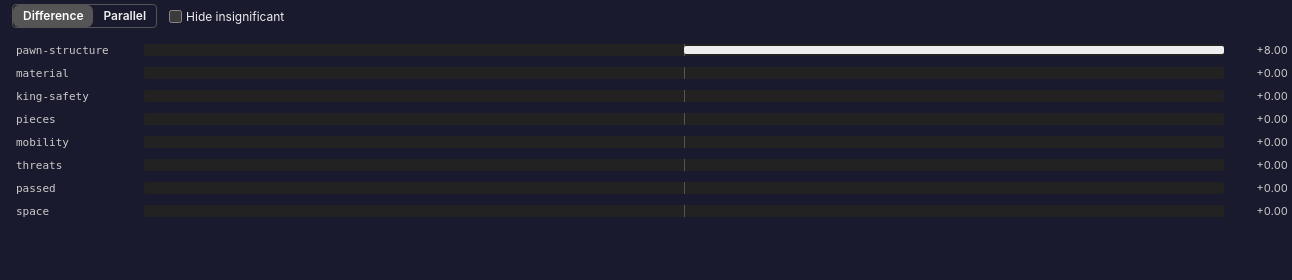
Test: <CurrentPositionMetricsPanel> KS-4043 › двойная вложенность блок ↔ подкомпонента (KS-4043 follow-up) › клик по строке-блоку только раскрывает блок, подсветку клеток НЕ включает
The width and height of the screenshot is (1292, 280).
Click the button with test id "current-metrics-row-pawn-structure". click: x=652, y=50
box: [12,40,1291,59]
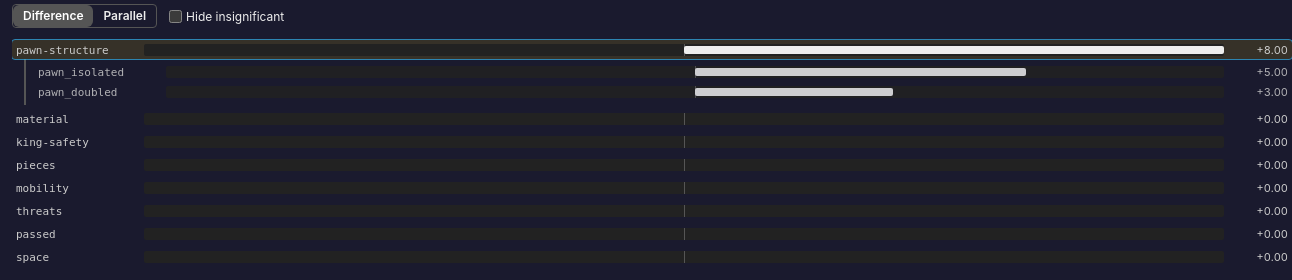
Expected: the element with test id "current-metrics-block-contributions-pawn-structure" is shown, [24,59,1291,105]
